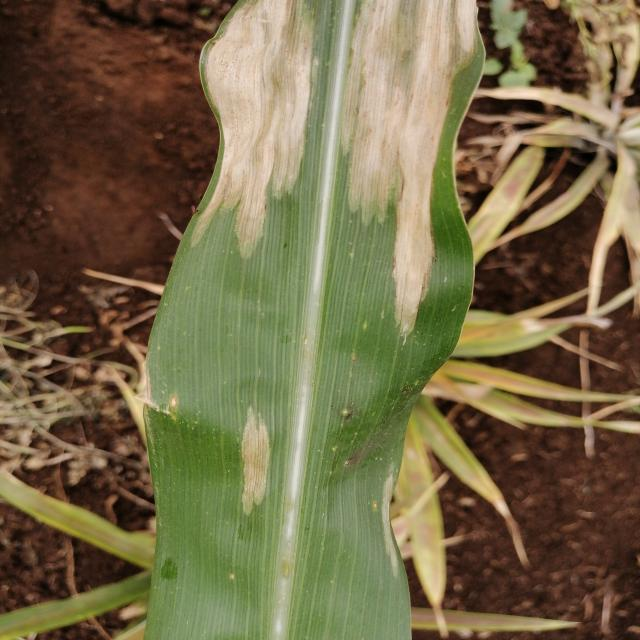Corn_Leaf_Blight: (156, 0, 489, 498)
